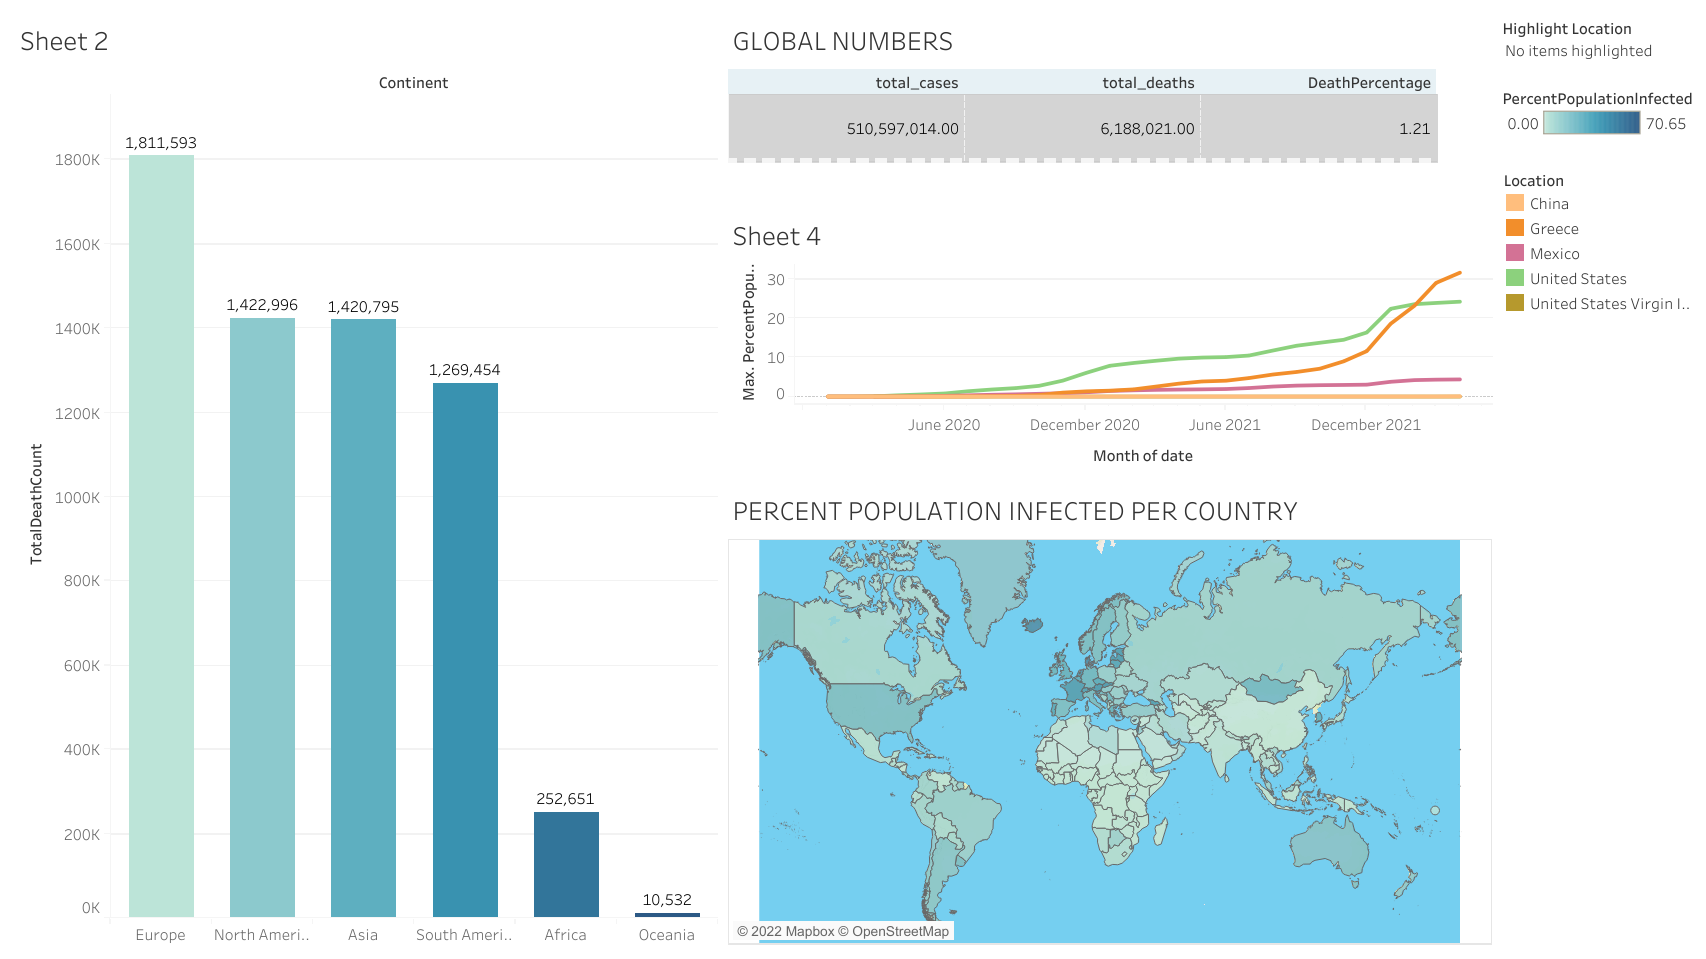

What the dashboard file says about the page in this screenshot:
{"tool":"tableau","page":{"name":"Dashboard 1","canvas":[1366,768],"ordinal":0},"visuals":[{"type":"worksheet","title":"Sheet 2","mark":"Automatic","rows":["TotalDeathCount"],"cols":["location"],"box":[8,8,570,752]},{"type":"worksheet","title":"Sheet 1","mark":"Automatic","box":[578,8,620,156]},{"type":"highlighter","title":"Sheet 3","param":"[federated.05kt8jj0v03dn513vmn4k1ldhqxy].[none:Location:nk]","box":[1198,8,160,56]},{"type":"legend","title":"Sheet 3","param":"[federated.05kt8jj0v03dn513vmn4k1ldhqxy].[sum:PercentPopulationlnfected:qk]","box":[1198,64,160,73]},{"type":"legend","title":"Sheet 4","param":"[federated.1s5cop21go40dm13uxvek0xkn3hg].[none:Location:nk]","box":[1198,137,160,135]},{"type":"worksheet","title":"Sheet 4","mark":"Automatic","rows":["PercentPopulationInfected"],"cols":["date"],"box":[578,164,620,220]},{"type":"worksheet","title":"Sheet 3","mark":"Automatic","box":[578,384,620,376]}]}

Visuals, with their boxes in screenshot pixels (x1, y1, x2, y2), scaled from the page's 1366x768 canvas onto the 1706x959 screenshot:
"Sheet 2" worksheet: BBox(10, 10, 722, 949)
"Sheet 1" worksheet: BBox(722, 10, 1496, 205)
"Sheet 3" highlighter: BBox(1496, 10, 1696, 80)
"Sheet 3" legend: BBox(1496, 80, 1696, 171)
"Sheet 4" legend: BBox(1496, 171, 1696, 340)
"Sheet 4" worksheet: BBox(722, 205, 1496, 480)
"Sheet 3" worksheet: BBox(722, 480, 1496, 949)
